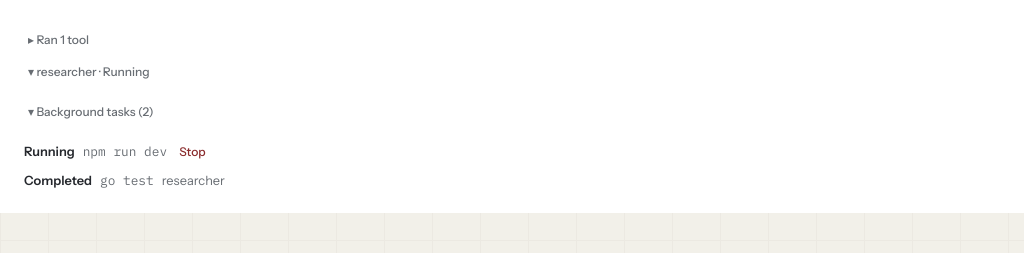
Test: background tasks (FS-03.A41) › keeps the last state and a retryable error when Stop fails
Click the button "Stop" at (192, 152), box [175,136,210,168]
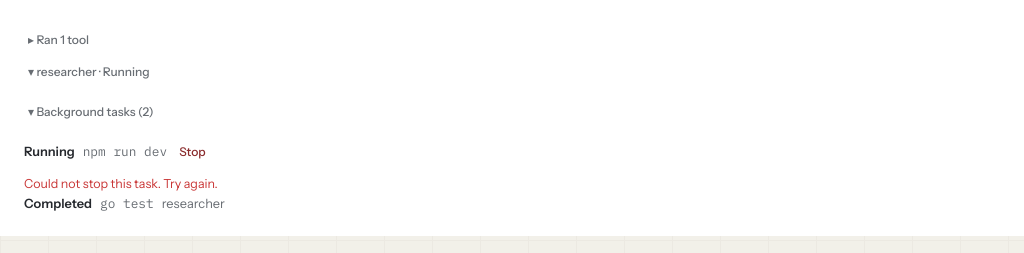
Expected: the message reads "Could not stop this task. Try again.", [24,176,218,191]
